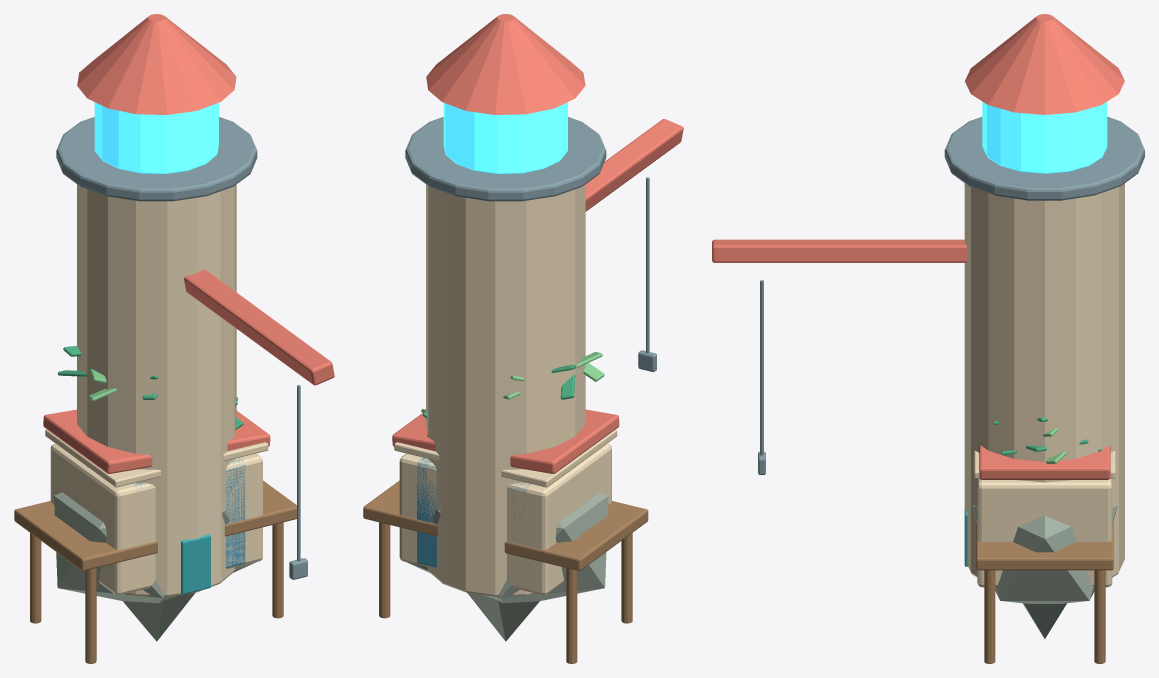
Rendered from seabreeze_reference.glb.
3 renders of one model, left to right at view 1: azimuth 30°, elevation 25°; view 2: azimuth 150°, elevation 25°; view 3: azimuth 270°, elevation 25°, orthographic.
Visible parts, largest first — view 1: Lighthouse_SeabreezeCream, HarborHouseA_SeabreezeCream, Lighthouse_SeabreezeCoral, HarborDock_SeabreezeWood, Lighthouse_SeabreezeSteel, Lighthouse_SeabreezeGlass, HarborCrane_SeabreezeCoral, HarborHouseA_SeabreezeCoral, CliffB_SeabreezeStone, HarborHouseB_SeabreezeBlue, Lighthouse_SeabreezeTeal, CliffC_SeabreezeStone (+2 smaller); view 2: Lighthouse_SeabreezeCream, HarborHouseA_SeabreezeCream, Lighthouse_SeabreezeCoral, HarborDock_SeabreezeWood, Lighthouse_SeabreezeSteel, Lighthouse_SeabreezeGlass, HarborHouseA_SeabreezeCoral, CliffB_SeabreezeStone, HarborCrane_SeabreezeCoral, HarborHouseB_SeabreezeBlue, CliffC_SeabreezeStone, HarborCrane_SeabreezeSteel (+1 smaller); view 3: Lighthouse_SeabreezeCream, Lighthouse_SeabreezeCoral, HarborHouseA_SeabreezeCream, Lighthouse_SeabreezeSteel, Lighthouse_SeabreezeGlass, HarborCrane_SeabreezeCoral, HarborDock_SeabreezeWood, CliffB_SeabreezeStone, HarborHouseA_SeabreezeCoral, HarborCrane_SeabreezeSteel, CliffC_SeabreezeStone.
Boxes of the visible parts, <box> form: Lighthouse_SeabreezeCream: <box>77,184,236,596</box>; HarborHouseA_SeabreezeCream: <box>45,429,268,595</box>; Lighthouse_SeabreezeCoral: <box>77,14,236,114</box>; HarborDock_SeabreezeWood: <box>14,480,296,663</box>; Lighthouse_SeabreezeSteel: <box>56,117,257,201</box>; Lighthouse_SeabreezeGlass: <box>94,102,218,173</box>; HarborCrane_SeabreezeCoral: <box>184,269,334,385</box>; HarborHouseA_SeabreezeCoral: <box>43,409,270,473</box>; CliffB_SeabreezeStone: <box>54,492,256,603</box>; HarborHouseB_SeabreezeBlue: <box>135,458,245,567</box>; Lighthouse_SeabreezeTeal: <box>181,534,210,594</box>; CliffC_SeabreezeStone: <box>123,592,195,641</box>; Lighthouse_SeabreezeCream: <box>426,184,585,596</box>; HarborHouseA_SeabreezeCream: <box>394,429,617,595</box>; Lighthouse_SeabreezeCoral: <box>426,14,585,114</box>; HarborDock_SeabreezeWood: <box>363,480,648,663</box>; Lighthouse_SeabreezeSteel: <box>405,117,606,201</box>; Lighthouse_SeabreezeGlass: <box>443,102,567,173</box>; HarborHouseA_SeabreezeCoral: <box>392,409,619,473</box>; CliffB_SeabreezeStone: <box>406,492,608,603</box>; HarborCrane_SeabreezeCoral: <box>585,119,683,211</box>; HarborHouseB_SeabreezeBlue: <box>417,457,531,588</box>; CliffC_SeabreezeStone: <box>467,592,539,641</box>; HarborCrane_SeabreezeSteel: <box>638,177,656,371</box>; Lighthouse_SeabreezeCream: <box>964,183,1124,577</box>; Lighthouse_SeabreezeCoral: <box>965,14,1124,114</box>; HarborHouseA_SeabreezeCream: <box>974,450,1115,587</box>; Lighthouse_SeabreezeSteel: <box>944,116,1144,200</box>; Lighthouse_SeabreezeGlass: <box>982,101,1107,173</box>; HarborCrane_SeabreezeCoral: <box>712,239,967,262</box>; HarborDock_SeabreezeWood: <box>976,523,1113,663</box>; CliffB_SeabreezeStone: <box>972,505,1117,603</box>; HarborHouseA_SeabreezeCoral: <box>979,445,1110,479</box>; HarborCrane_SeabreezeSteel: <box>758,280,765,474</box>; CliffC_SeabreezeStone: <box>1023,603,1066,638</box>.
Size of the model in its own units: 10 by 27.41 by 17.3.
